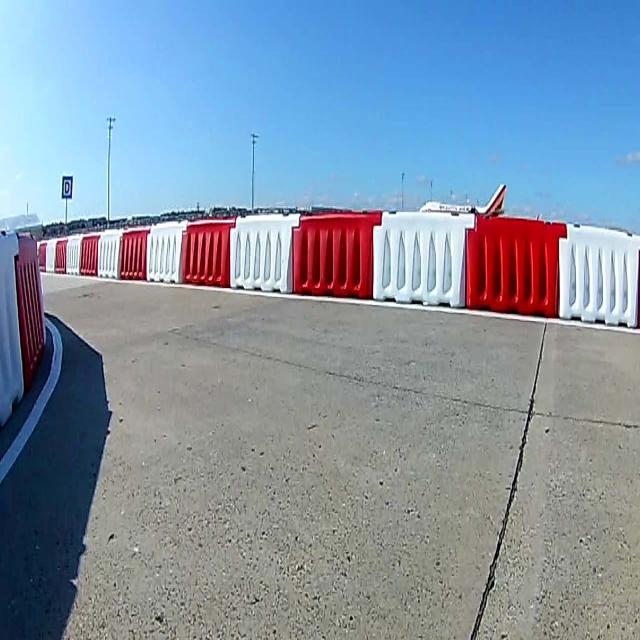durak: (62, 177, 72, 198)
